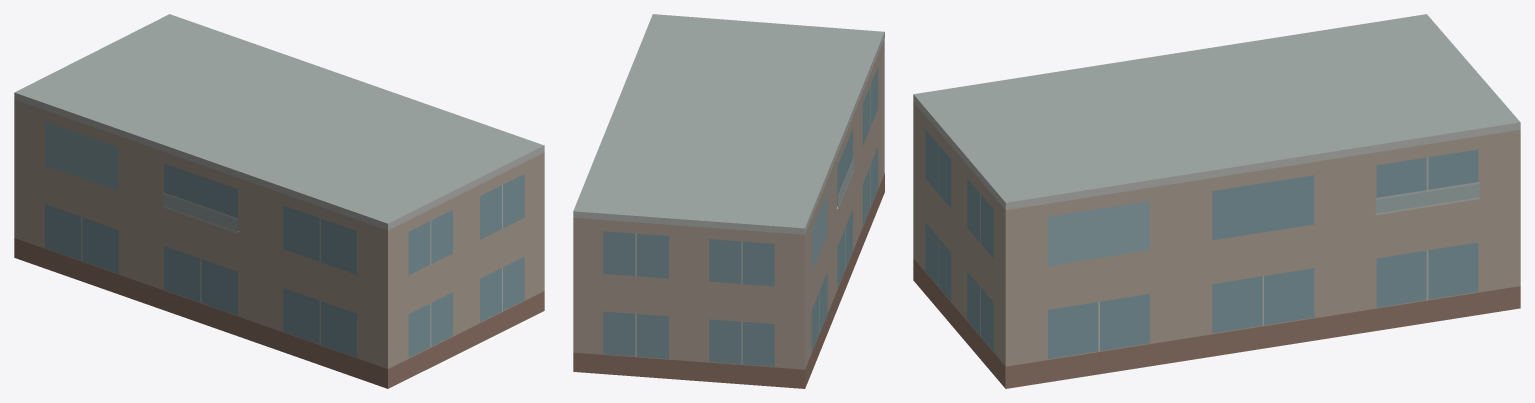
The model's file is survey-upis-32854458.glb.
3 views of the same model, side by side, from view 1: azimuth 30°, elevation 25°; view 2: azimuth 150°, elevation 25°; view 3: azimuth 270°, elevation 25° (orthographic). The views are drawn at different scales.
Parts seen in each view (by area): view 1: survey-upis-32854458.tmp; view 2: survey-upis-32854458.tmp; view 3: survey-upis-32854458.tmp.
Boxes of the visible parts, box(x1,y1,x2,y2) form: survey-upis-32854458.tmp: box(14, 14, 544, 388); survey-upis-32854458.tmp: box(573, 14, 884, 388); survey-upis-32854458.tmp: box(913, 14, 1520, 388).
Bounding box in the file's own units: 13.29 × 6.1 × 18.05.
